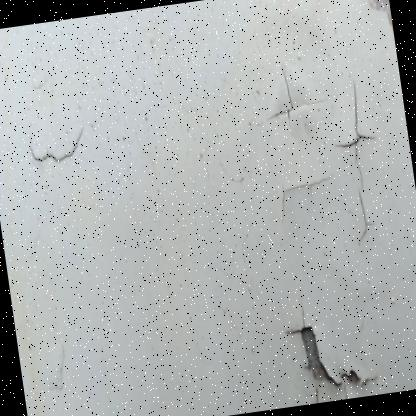Crack: (256, 281, 403, 408), (323, 57, 396, 250), (8, 83, 102, 194), (265, 150, 345, 230), (253, 51, 322, 138), (32, 320, 82, 412), (351, 0, 395, 51)
